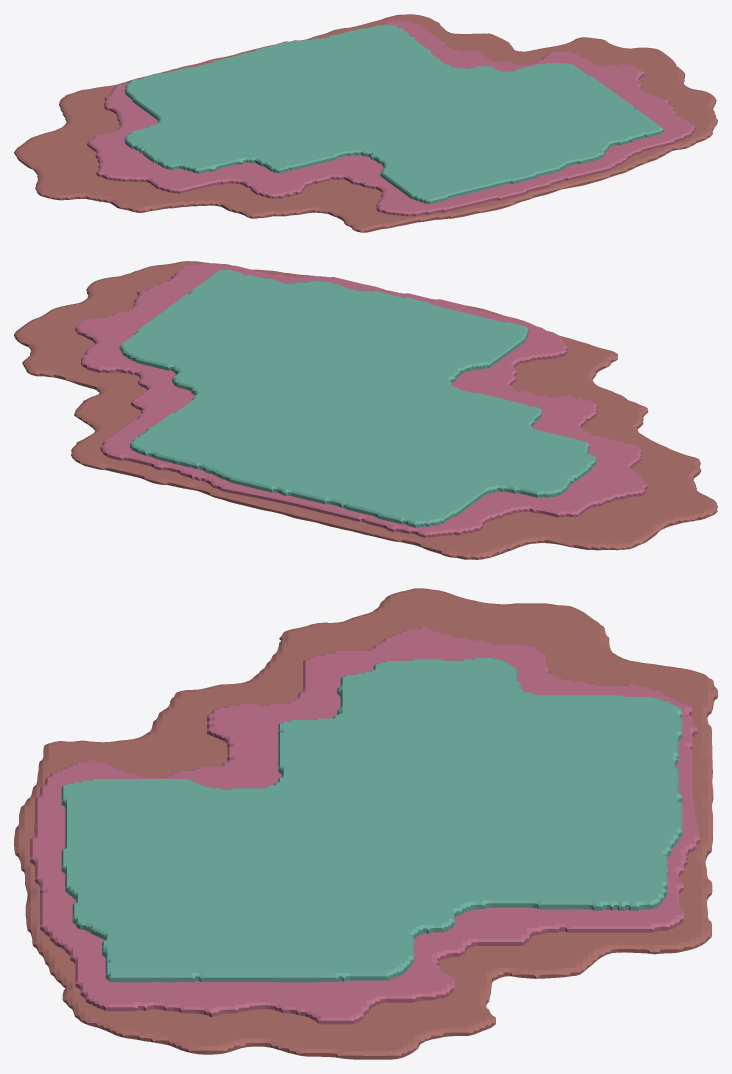
The model's file is underground.fbx.
3 views of the same model, one above another, from view 1: azimuth 30°, elevation 25°; view 2: azimuth 150°, elevation 25°; view 3: azimuth 270°, elevation 25° (orthographic). The views are drawn at different scales.
Visible parts, largest first — view 1: Plane.017, Plane.020, Plane.018; view 2: Plane.017, Plane.020, Plane.018; view 3: Plane.017, Plane.020, Plane.018.
Part boxes in pixels (x1=…): Plane.017: x1=124, y1=24, x2=663, y2=203; Plane.020: x1=14, y1=14, x2=717, y2=232; Plane.018: x1=87, y1=20, x2=695, y2=216; Plane.017: x1=119, y1=269, x2=596, y2=527; Plane.020: x1=14, y1=261, x2=717, y2=559; Plane.018: x1=75, y1=262, x2=647, y2=537; Plane.017: x1=61, y1=658, x2=682, y2=982; Plane.020: x1=14, y1=588, x2=717, y2=1059; Plane.018: x1=30, y1=627, x2=700, y2=1024.
Bounding box in the file's own units: 7564 × 154 × 4810.
